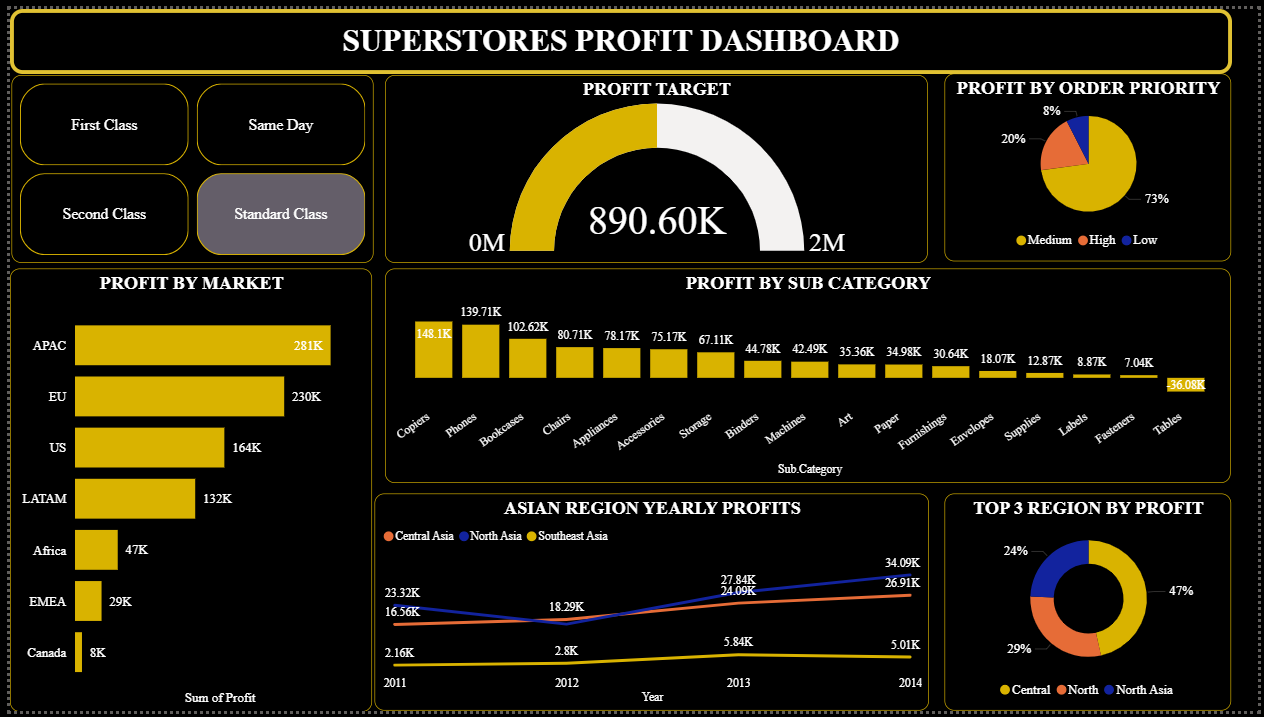

The dashboard page shown, as its layout file describes it:
{"tool":"powerbi","page":{"name":"PROFIT","canvas":[1280,720],"ordinal":1},"visuals":[{"type":"donutChart","title":"TOP 3 REGION BY PROFIT","fields":{"Category":["superstore.Region"],"Y":["Sum(superstore.Profit)"]},"box":[958.5,497.4,294.2,222.9],"z":0},{"type":"clusteredBarChart","title":"PROFIT BY MARKET","fields":{"Category":["superstore.Market"],"Y":["Sum(superstore.Profit)"]},"box":[0,266.9,371.6,455],"z":1000},{"type":"pieChart","title":"PROFIT BY ORDER PRIORITY","fields":{"Category":["superstore.Order.Priority"],"Y":["Sum(superstore.Profit)"]},"box":[958.6,65.8,294.2,192.6],"z":2000},{"type":"lineChart","title":"ASIAN REGION YEARLY PROFITS","fields":{"Category":["superstore.Year"],"Y":["Sum(superstore.Profit)"],"Series":["superstore.Region"]},"box":[373.1,497.4,568.7,222.9],"z":3000},{"type":"gauge","title":"PROFIT TARGET","fields":{"Y":["Sum(superstore.Profit)"]},"box":[385.3,67.3,556.6,192.6],"z":4000},{"type":"advancedSlicerVisual","fields":{"Values":["superstore.Ship.Mode"]},"box":[1.6,67.3,371.6,192.6],"z":5000},{"type":"clusteredColumnChart","title":"PROFIT BY SUB CATEGORY","fields":{"Category":["superstore.Sub.Category"],"Y":["Sum(superstore.Profit)"]},"box":[385.2,266.9,867.5,219.9],"z":6000},{"type":"textbox","box":[0,0,1253.6,59.4],"z":7000}]}

Visuals, with their boxes in screenshot pixels (x1, y1, x2, y2), scaled from the page's 1280x720 canvas onto the 1264x717 screenshot:
"TOP 3 REGION BY PROFIT" donutChart: bbox=[947, 495, 1237, 716]
"PROFIT BY MARKET" clusteredBarChart: bbox=[0, 266, 367, 716]
"PROFIT BY ORDER PRIORITY" pieChart: bbox=[947, 66, 1237, 257]
"ASIAN REGION YEARLY PROFITS" lineChart: bbox=[368, 495, 930, 716]
"PROFIT TARGET" gauge: bbox=[380, 67, 930, 259]
advancedSlicerVisual - superstore.Ship.Mode: bbox=[2, 67, 369, 259]
"PROFIT BY SUB CATEGORY" clusteredColumnChart: bbox=[380, 266, 1237, 485]
textbox: bbox=[0, 0, 1238, 59]
